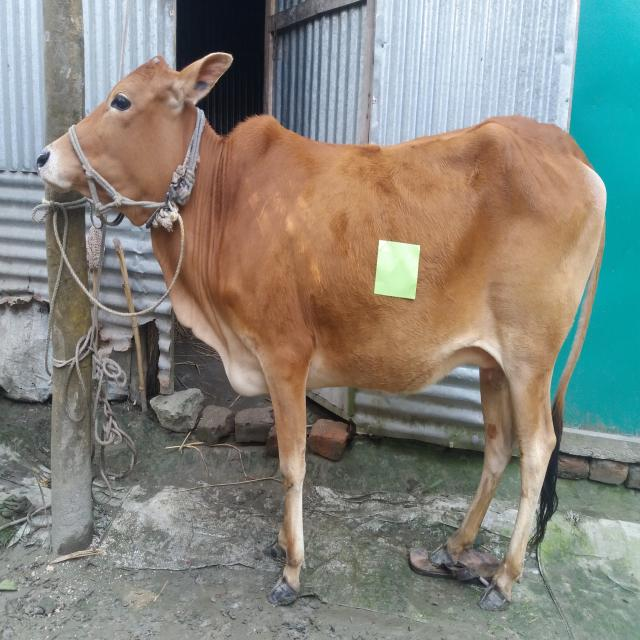badan_sapi: (262, 143, 606, 390)
sapi: (35, 49, 614, 618)
